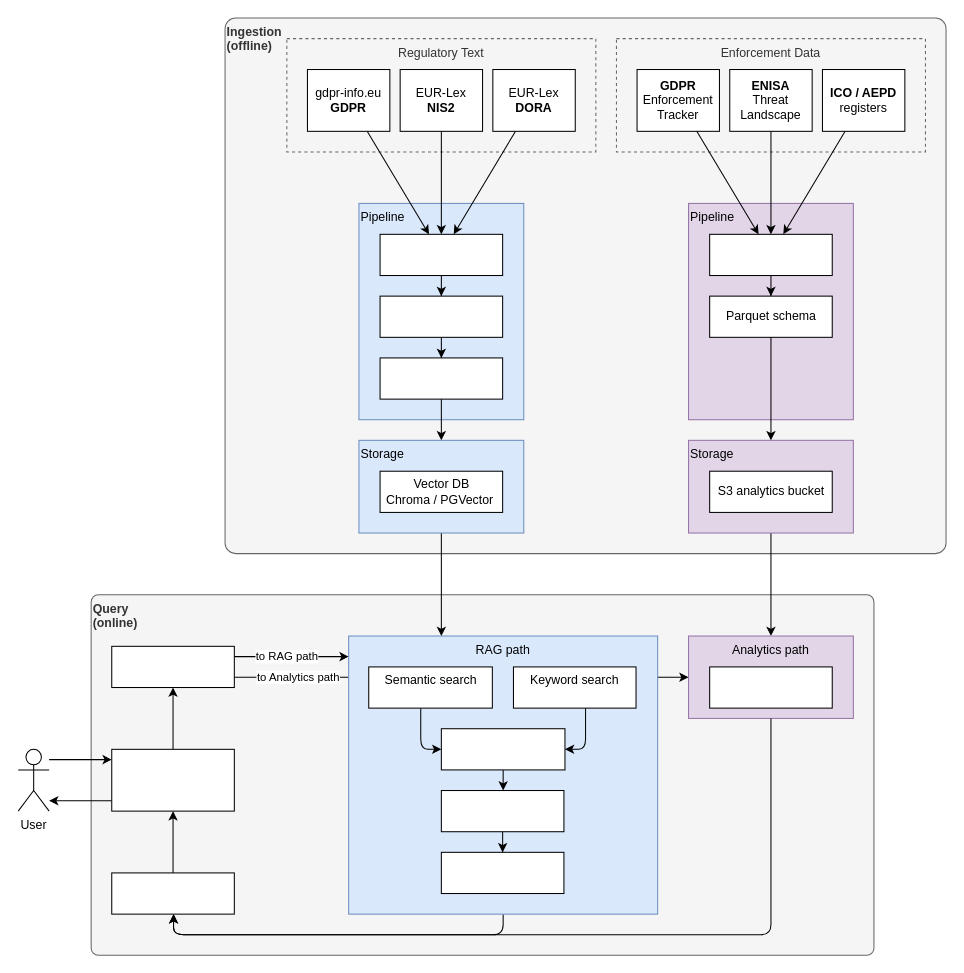
This 964x973 diagram has some shape labels left out. The shapes that lost their labels are listed below. From the top down, each one's centre as x and y in pixels, then its label:
At point (441, 254): "Loader".
At point (770, 254): "ETL Loader".
At point (441, 316): "Chunker".
At point (441, 378): "Embedder".
At point (172, 666): "Router Agent LangGraph".
At point (770, 687): "SQL query Athena".
At point (502, 749): "Score Fusion RRF".
At point (172, 779): "API /chat FastAPI".
At point (502, 810): "Re-ranking Cross-encoder".
At point (502, 872): "Contex builder + citations".
At point (172, 893): "Reasoning".
